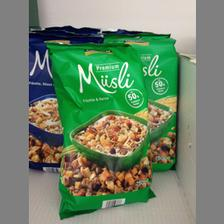Cerealien: (44, 40, 156, 220)
